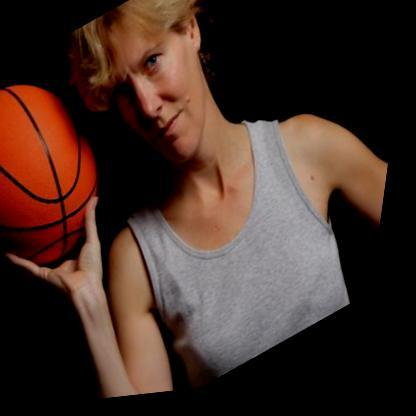basketball: (0, 50, 147, 294)
